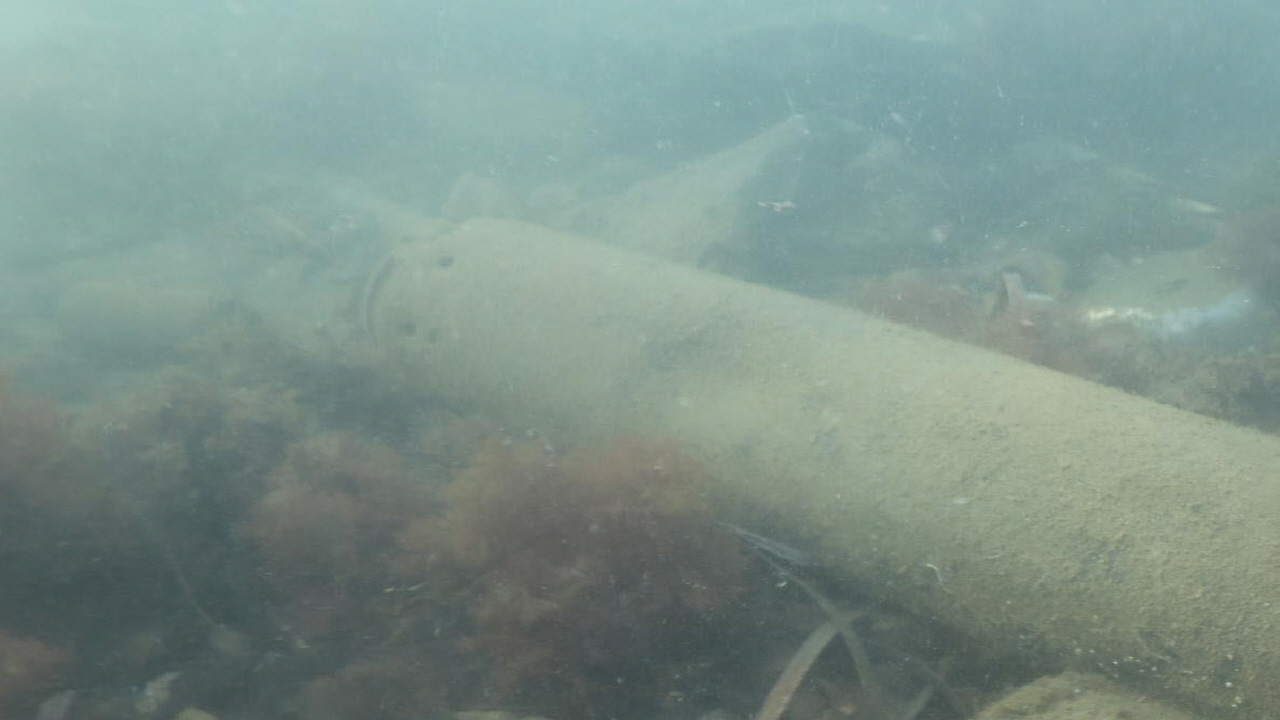eel fish trap: (360, 213, 1280, 720)
